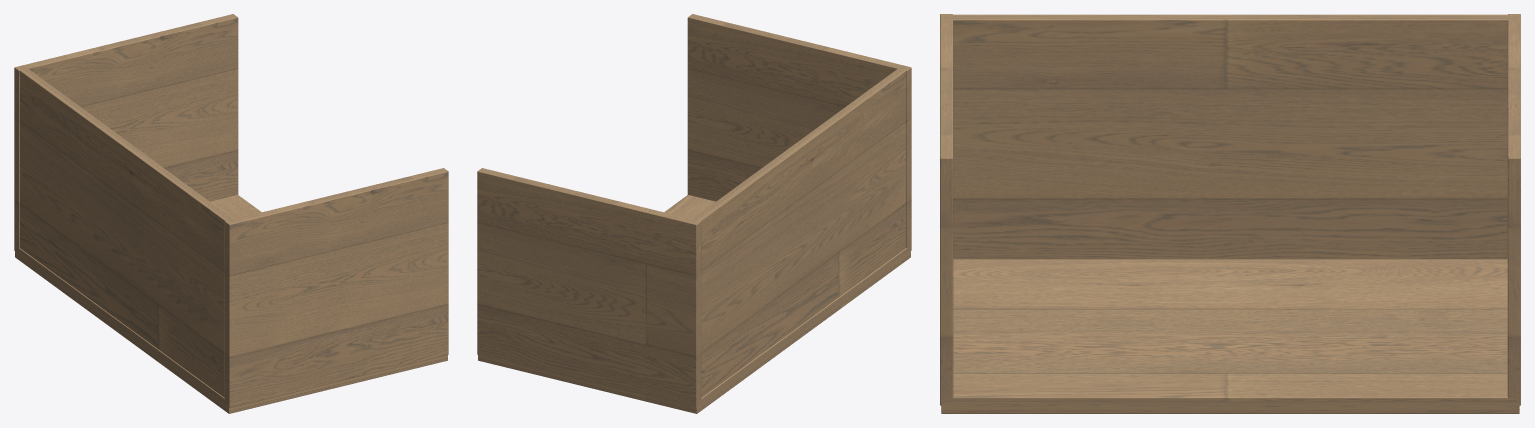
File: vanity_shell.glb
3 renders of one model, left to right at view 1: azimuth 30°, elevation 25°; view 2: azimuth 150°, elevation 25°; view 3: azimuth 270°, elevation 25°, orthographic. The views are drawn at different scales.
Visible parts, largest first — view 1: vanity_side_-0.54, vanity_back, vanity_side_0.54, vanity_bottom; view 2: vanity_side_0.54, vanity_back, vanity_side_-0.54, vanity_bottom; view 3: vanity_back, vanity_bottom, vanity_side_0.54, vanity_side_-0.54.
Part boxes in pixels (x1,y1,x2,y2): vanity_side_-0.54: (224, 168, 448, 407); vanity_back: (16, 65, 234, 397); vanity_side_0.54: (14, 14, 238, 252); vanity_bottom: (15, 195, 447, 413); vanity_side_0.54: (477, 168, 701, 407); vanity_back: (690, 65, 909, 397); vanity_side_-0.54: (687, 14, 911, 252); vanity_bottom: (478, 195, 910, 413); vanity_back: (942, 14, 1518, 259); vanity_bottom: (941, 259, 1519, 413); vanity_side_0.54: (1507, 14, 1520, 405); vanity_side_-0.54: (940, 14, 953, 405).
Size of the model in its own units: 0.65 by 0.5375 by 1.11.
Materials: 1 (1 with a texture image).
